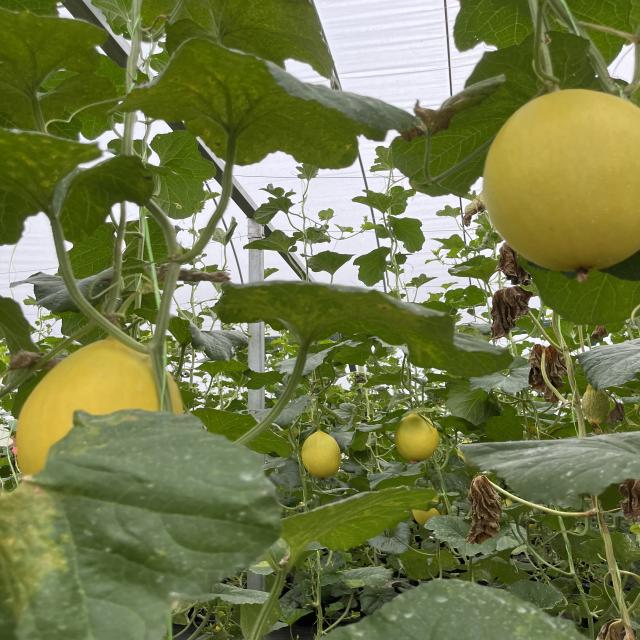CMV: (462, 475, 502, 545), (495, 244, 529, 285)
bacterial wilt: (483, 284, 538, 341)
downy mildew: (209, 278, 512, 376)
